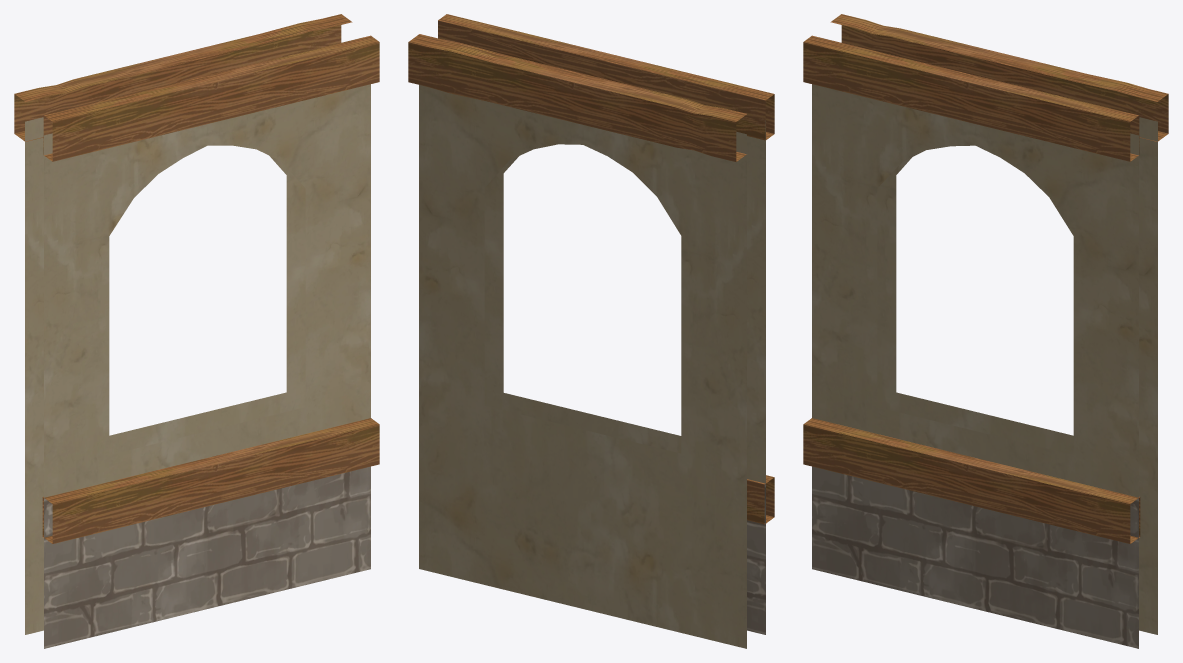
The model's file is Wall_Plaster_Window_Wide_Round.gltf.
The picture shows the model from 3 angles, left to right: view 1: azimuth 30°, elevation 25°; view 2: azimuth 150°, elevation 25°; view 3: azimuth 330°, elevation 25°; orthographic projection.
Parts seen in each view (by area): view 1: Wall_Plaster_Window_Wide_Round; view 2: Wall_Plaster_Window_Wide_Round; view 3: Wall_Plaster_Window_Wide_Round.
Part boxes in pixels (x1,y1,x2,y2): Wall_Plaster_Window_Wide_Round: [14, 14, 379, 648]; Wall_Plaster_Window_Wide_Round: [408, 14, 774, 648]; Wall_Plaster_Window_Wide_Round: [803, 14, 1168, 648].
Size of the model in its own units: 2 by 3.12 by 0.4065.
Materials: 3 (3 with a texture image).
